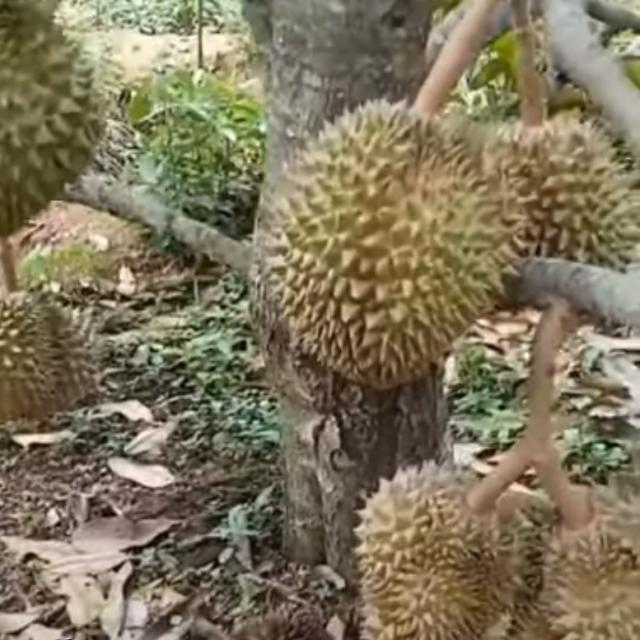mature: (261, 99, 519, 389), (353, 448, 516, 640), (0, 285, 99, 433)
